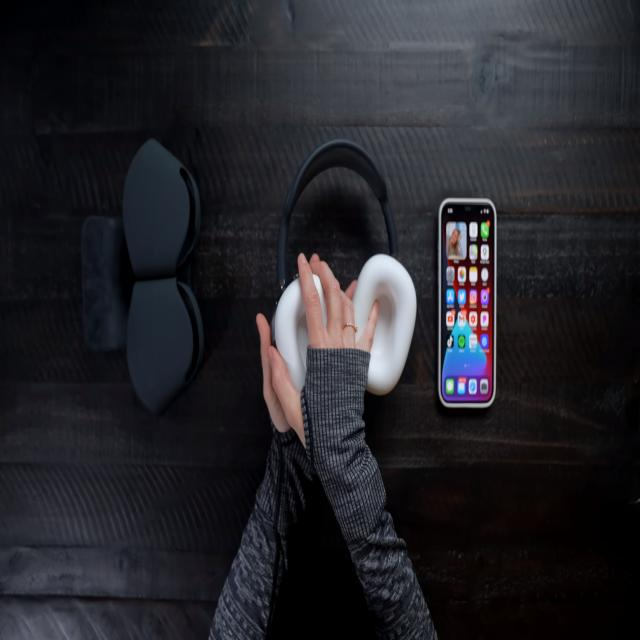Headphone: (270, 132, 419, 403)
